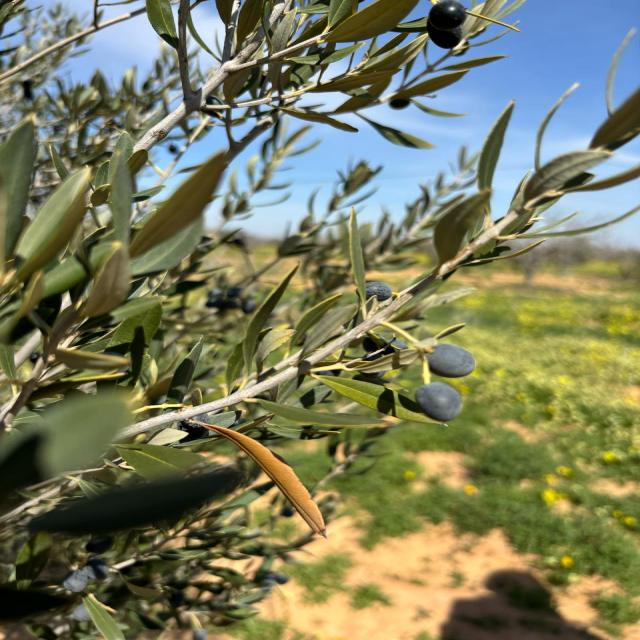Healthy: (427, 0, 467, 49), (415, 382, 461, 422), (426, 344, 475, 378)
